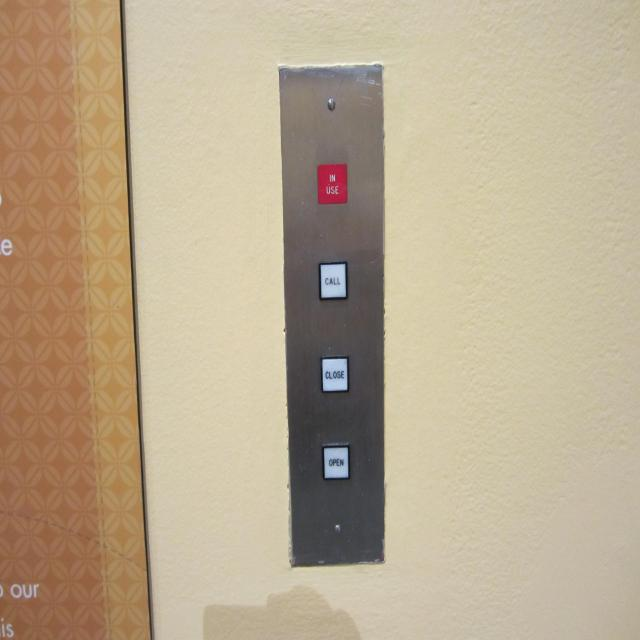text_CALL CANCEL: (317, 261, 348, 300)
text_CLOSE DOOR: (321, 353, 348, 394)
text_INUSE: (315, 162, 348, 205)
text_OPEN DOOR: (322, 442, 351, 480)
